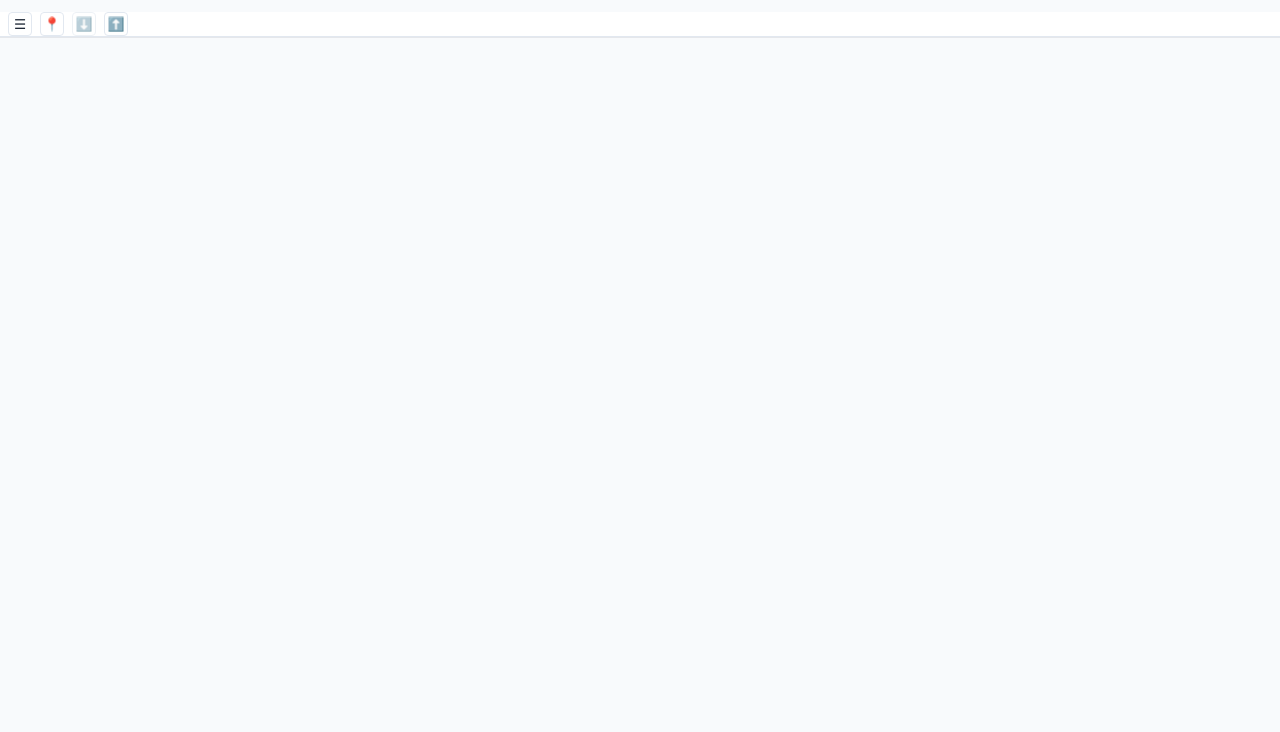
Scenario: FileExplorerToolbar › renders sort directories with files checkbox
The width and height of the screenshot is (1280, 732).
Click the button with class "toolbar-menu-trigger": {"x": 20, "y": 24} [8,12,32,36]
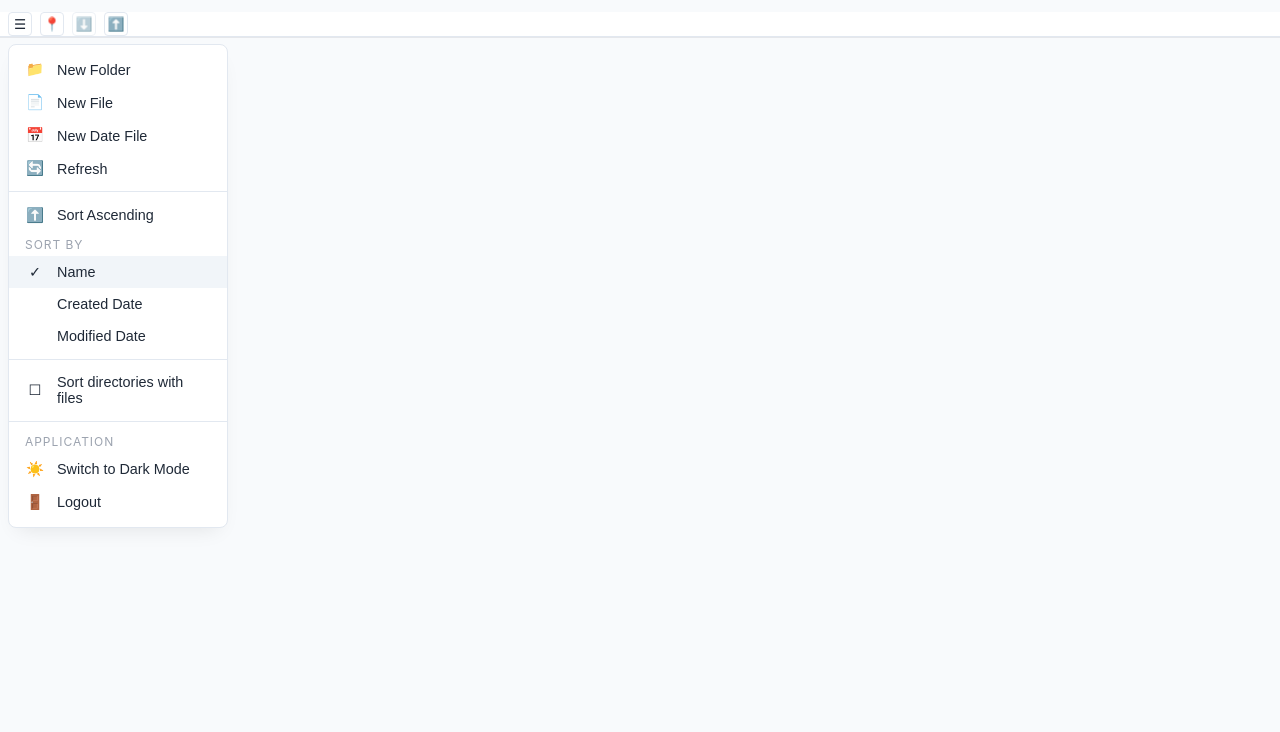
Expected: the menu item with class "toolbar-dropdown-checkbox" shows "Sort directories with files", [9,366,227,414]
